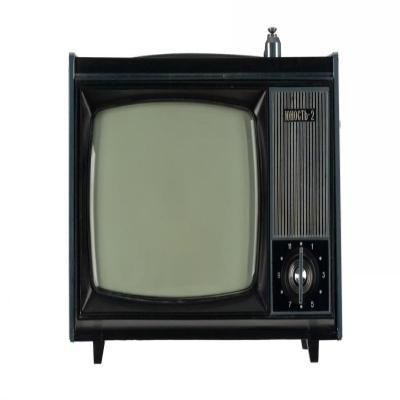technique: (69, 38, 342, 363)
